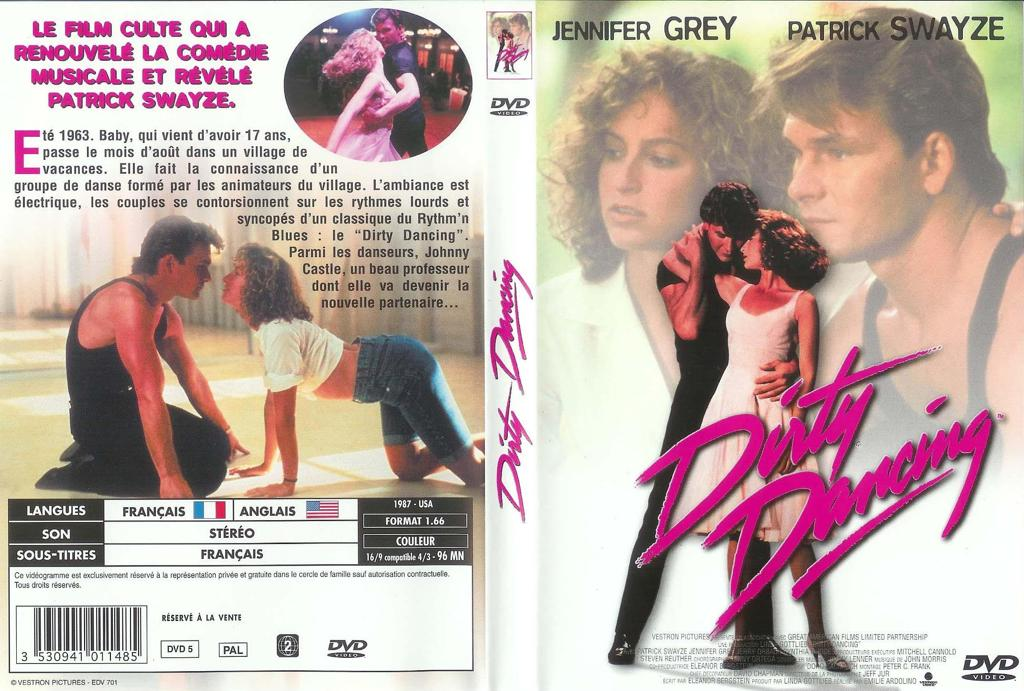face: (781, 91, 924, 259), (601, 82, 711, 251), (174, 236, 212, 300), (709, 214, 748, 263), (740, 223, 772, 270), (220, 254, 250, 299), (376, 18, 397, 48), (509, 23, 521, 35), (493, 20, 501, 34)
